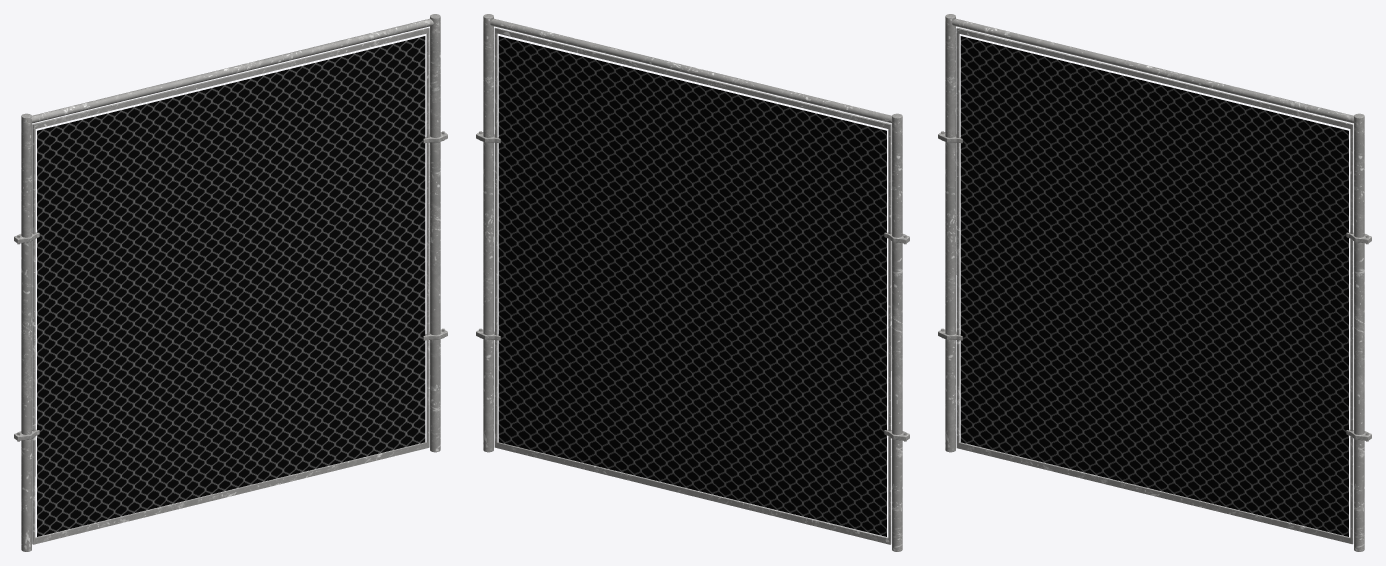
File: SM_Fence_200u.glb
3 views of the same model, side by side, from view 1: azimuth 30°, elevation 25°; view 2: azimuth 150°, elevation 25°; view 3: azimuth 330°, elevation 25° (orthographic).
Parts seen in each view (by area): view 1: SM_Fence_200u; view 2: SM_Fence_200u; view 3: SM_Fence_200u.
Part boxes in pixels (x1,y1,x2,y2): SM_Fence_200u: (14, 14, 447, 551); SM_Fence_200u: (476, 14, 909, 551); SM_Fence_200u: (938, 14, 1371, 551).
Bounding box in the file's own units: 2.74 × 2.64 × 0.0848.
2 materials, 2 textured.
